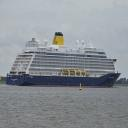cruises: (7, 31, 123, 88)
